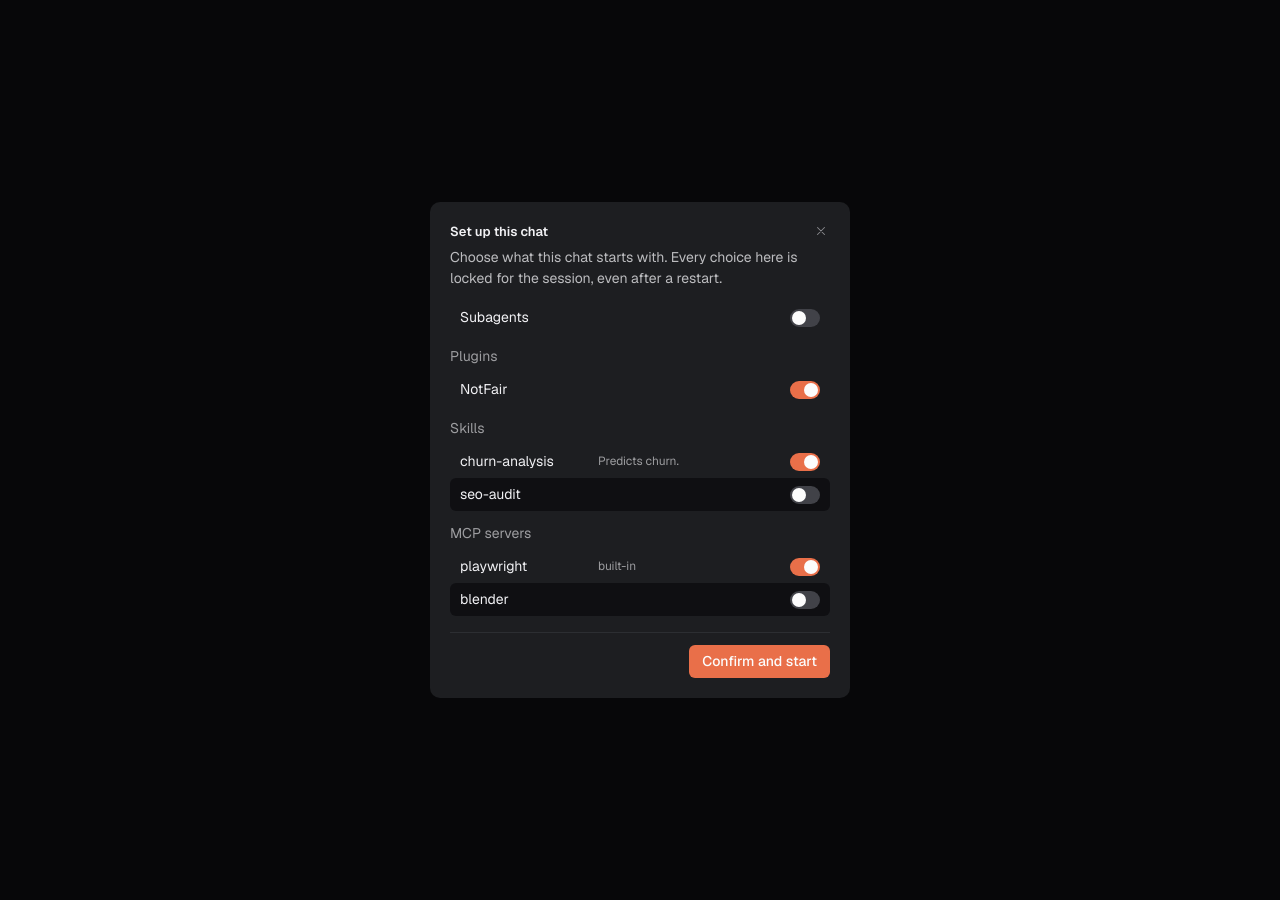
mcp-setup › CapabilityDialog › greys out the confirm button and throbs while the session starts
What coordinates should you click on to do the following:
click the button "Confirm and start"
I would click on:
 (760, 662)
Its box is [689, 645, 830, 678].
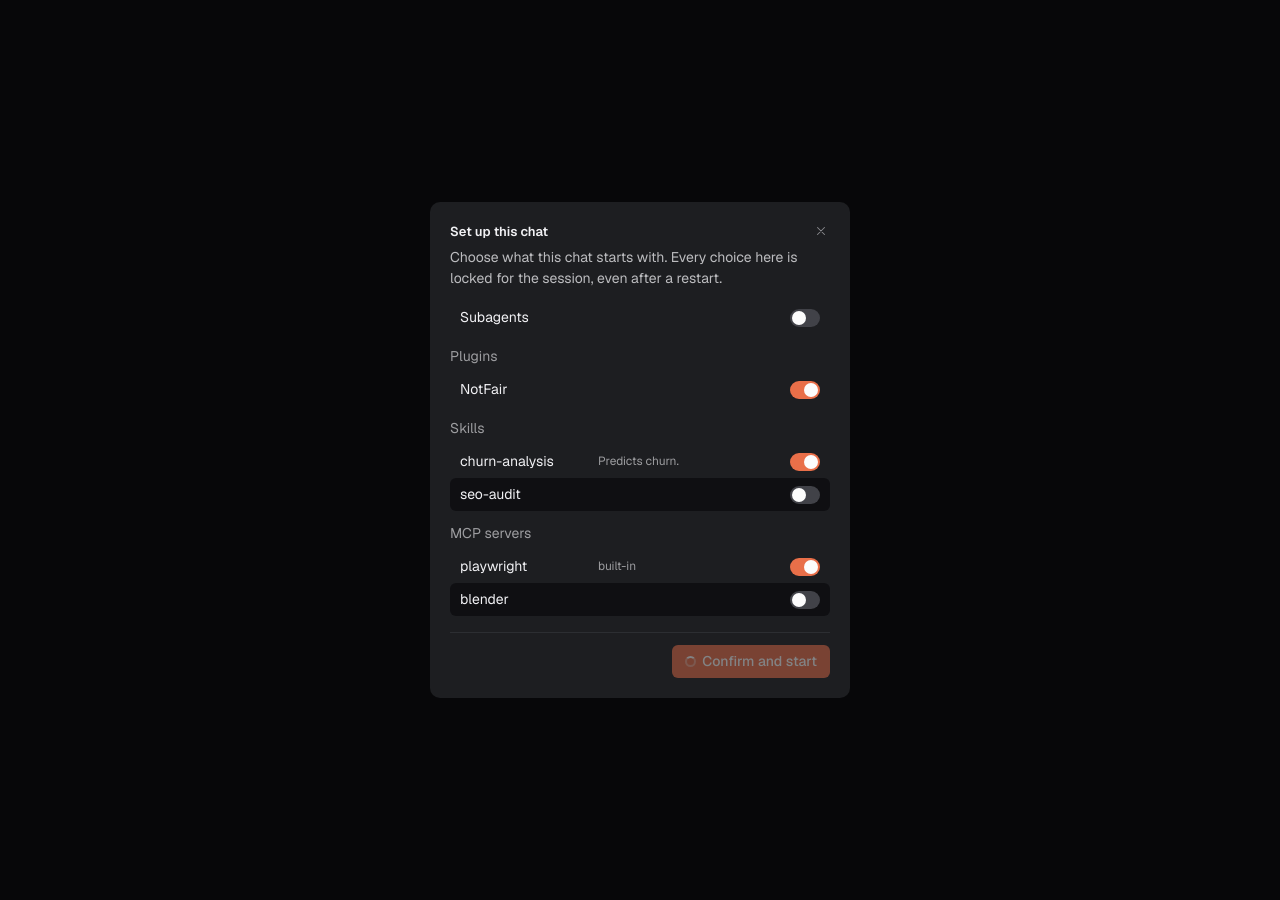
Now the button "Confirm and start" is disabled, box [672, 645, 830, 678]
Now the message named "Starting session" is shown, box [685, 656, 696, 667]
